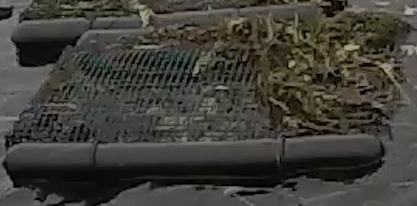bag: (1, 29, 385, 183)
